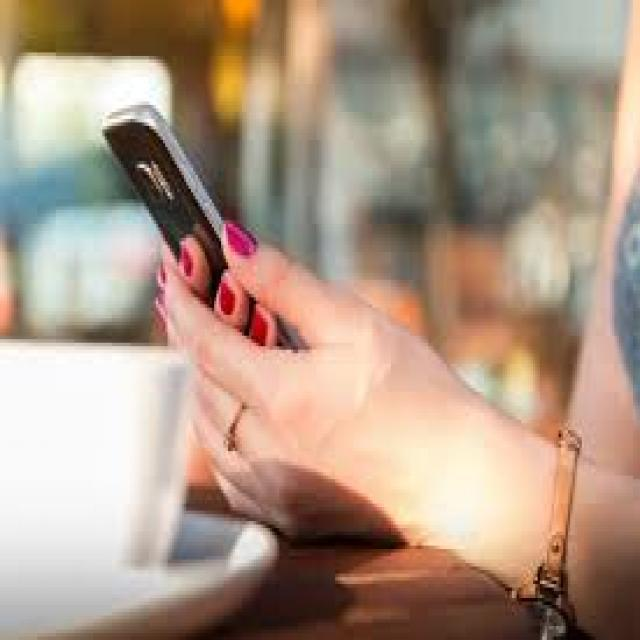Phone: (96, 102, 219, 240)
